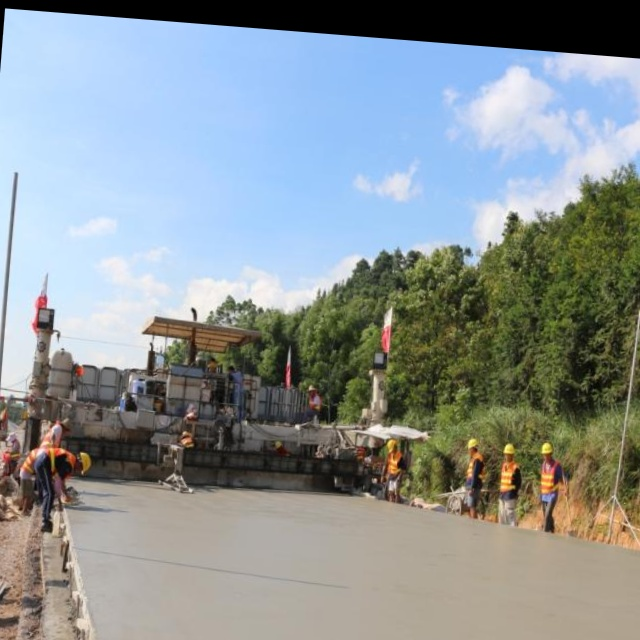Con_Chaleco: (40, 446, 77, 484), (538, 461, 561, 499), (498, 459, 523, 493), (466, 452, 486, 483), (385, 452, 405, 479)
